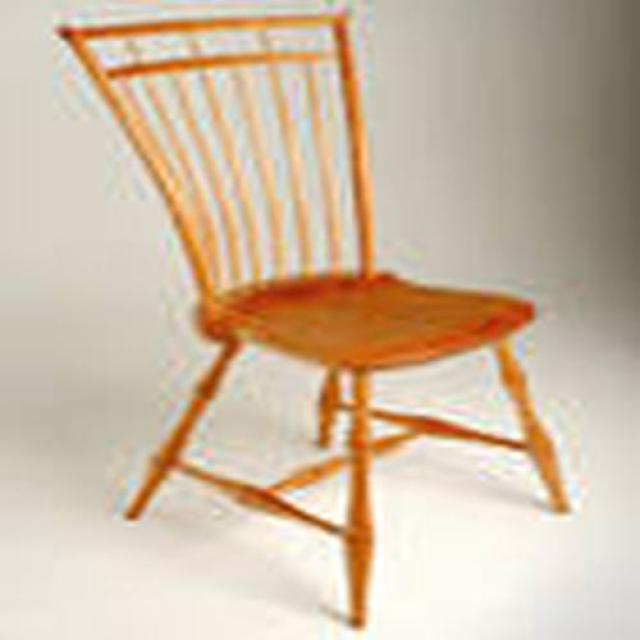chair: (56, 9, 572, 634)
